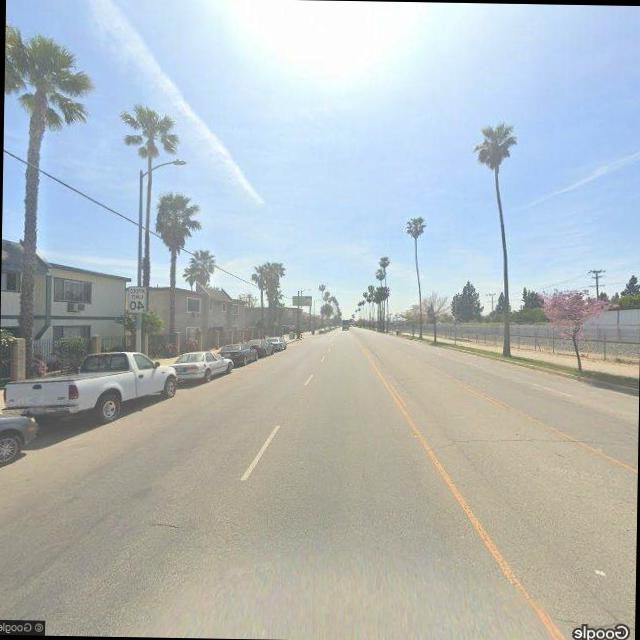crack: (425, 429, 636, 452)
